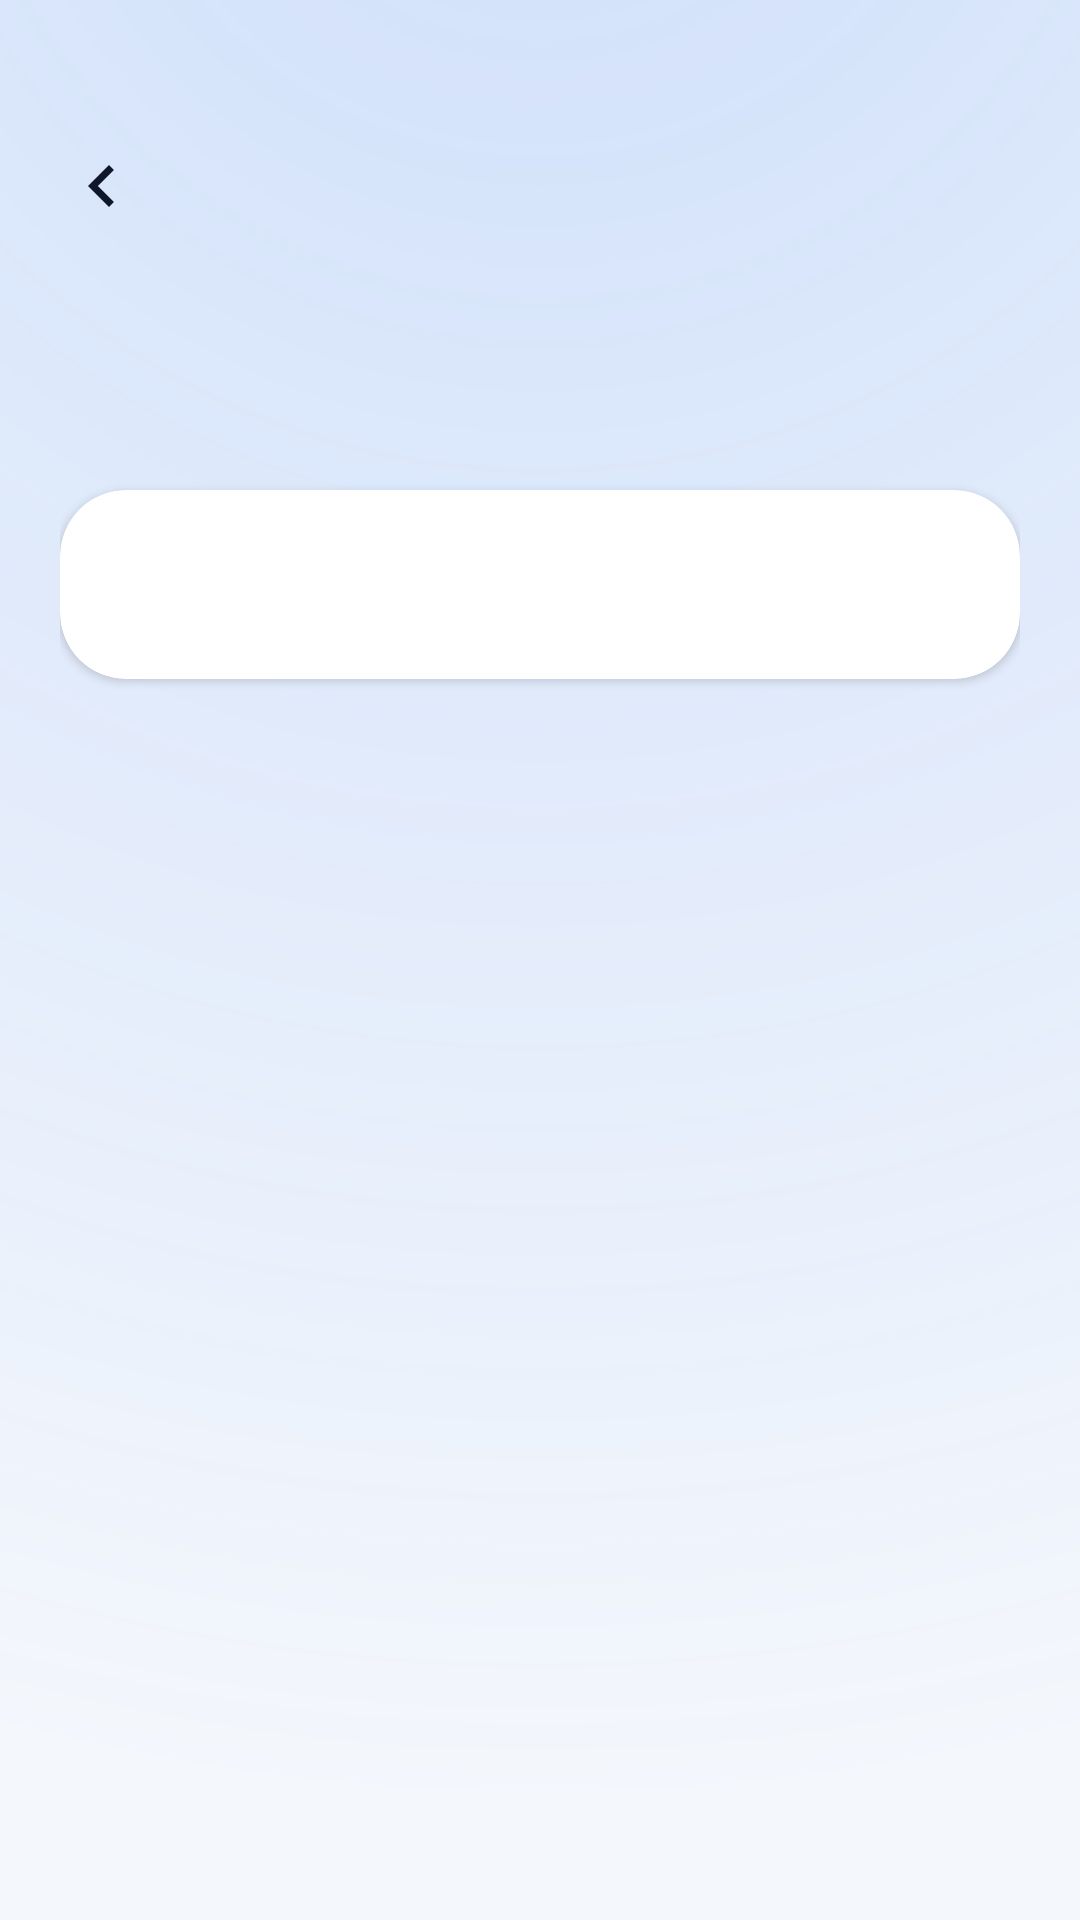

Screen size 1080px×1920px. Icon name, then its center in pixels as [x,y]:
Back: [101,186]
